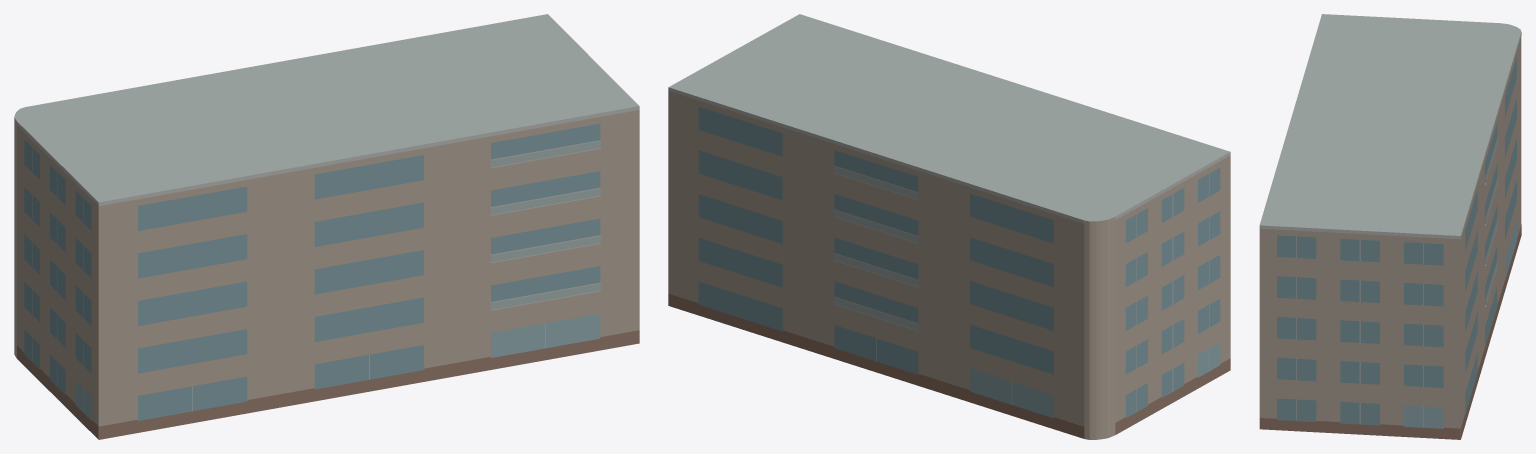
Rendered from survey-upis-32743418.glb.
3 renders of one model, left to right at view 1: azimuth 30°, elevation 25°; view 2: azimuth 150°, elevation 25°; view 3: azimuth 270°, elevation 25°, orthographic. The views are drawn at different scales.
Parts seen in each view (by area): view 1: survey-upis-32743418.tmp; view 2: survey-upis-32743418.tmp; view 3: survey-upis-32743418.tmp.
Boxes of the visible parts, x1,y1,x2,y2 form: survey-upis-32743418.tmp: (14, 14, 639, 439); survey-upis-32743418.tmp: (668, 14, 1230, 439); survey-upis-32743418.tmp: (1259, 14, 1521, 439).
Size of the model in its own units: 35.04 by 15 by 17.47.
